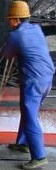boots: (8, 143, 30, 153), (0, 57, 6, 65)
hard-hat: (4, 0, 31, 18)
ppe-suit: (1, 20, 56, 159)
